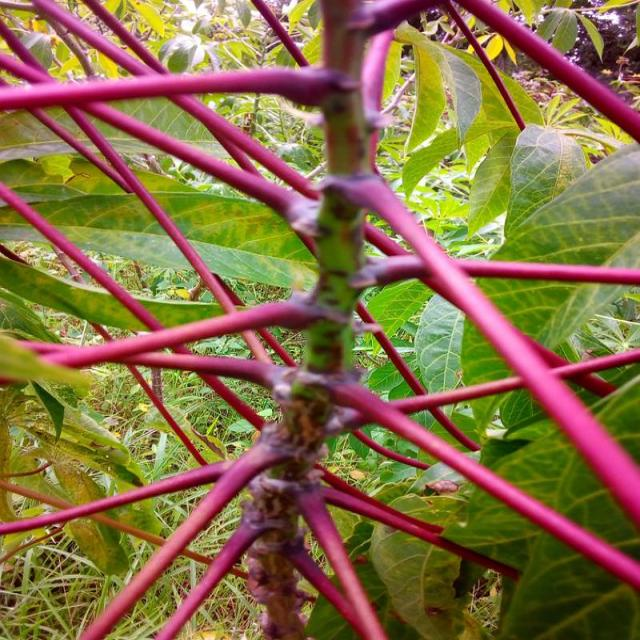cassava leaf: (1, 0, 638, 638), (412, 138, 638, 442), (0, 148, 320, 291)
